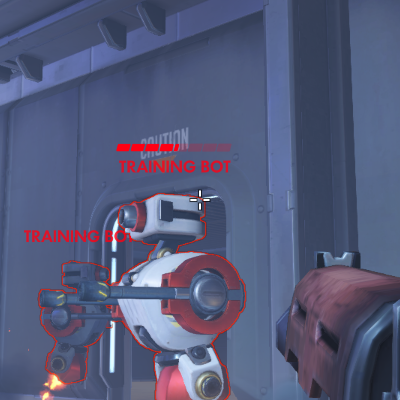hpbar: (116, 143, 231, 152)
